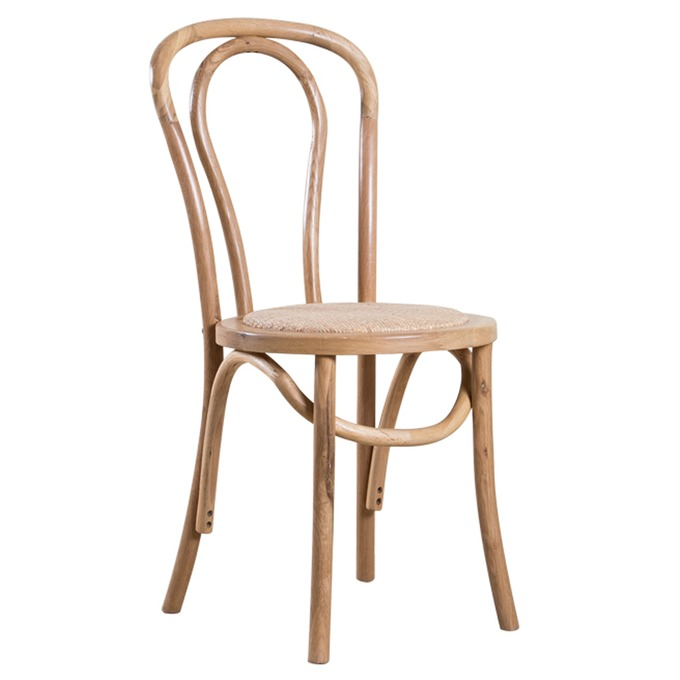seat: (147, 13, 531, 667)
